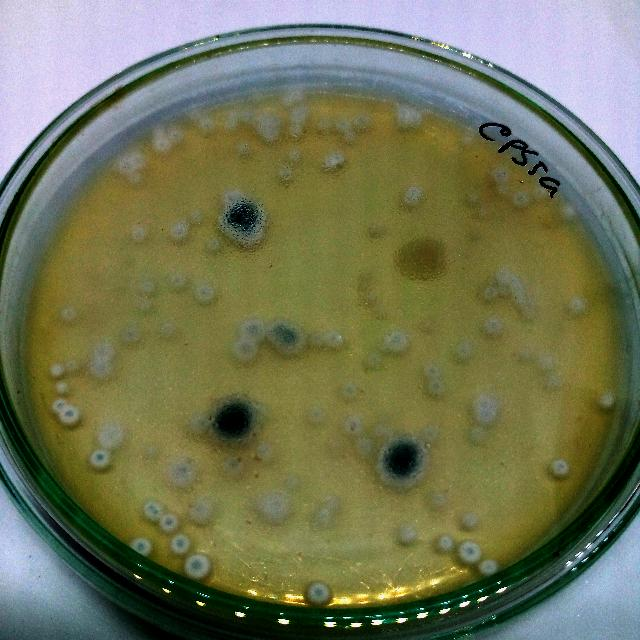colony: (376, 434, 434, 491), (395, 232, 453, 282), (218, 198, 270, 248), (210, 394, 256, 446), (256, 485, 290, 523), (93, 419, 125, 453), (164, 456, 198, 488), (275, 324, 307, 358), (186, 494, 217, 526), (184, 550, 213, 584), (391, 104, 423, 134), (264, 318, 292, 347), (471, 393, 502, 419), (382, 326, 410, 354), (306, 579, 332, 609), (231, 339, 261, 365), (166, 532, 194, 558), (128, 535, 156, 561), (190, 282, 218, 308), (218, 451, 246, 477), (255, 438, 281, 466), (392, 520, 418, 546), (301, 402, 329, 426), (166, 219, 190, 247), (354, 434, 380, 458), (242, 318, 266, 344), (548, 457, 572, 483), (217, 183, 245, 204), (58, 404, 82, 428), (402, 184, 426, 208), (554, 200, 578, 224), (458, 539, 482, 563), (89, 358, 115, 380), (134, 296, 158, 318), (324, 329, 348, 351), (189, 408, 211, 432), (128, 224, 152, 246), (288, 104, 312, 126), (458, 510, 482, 532), (253, 112, 279, 132), (464, 424, 490, 444), (424, 488, 450, 508), (340, 381, 364, 402), (366, 220, 388, 242), (596, 388, 618, 410), (351, 111, 374, 132), (451, 338, 474, 359), (88, 448, 112, 468), (136, 276, 160, 296), (315, 506, 335, 530), (422, 360, 446, 380), (286, 125, 308, 146), (167, 271, 190, 291), (155, 320, 177, 340), (342, 415, 364, 435), (186, 203, 208, 223), (276, 164, 296, 186), (115, 152, 135, 174), (510, 188, 532, 208), (494, 266, 516, 286), (434, 534, 456, 554), (125, 150, 146, 170), (541, 369, 563, 388), (143, 501, 163, 521), (284, 473, 304, 493), (202, 234, 222, 254), (315, 116, 335, 136), (478, 316, 498, 336), (428, 377, 448, 397), (535, 350, 555, 370), (478, 557, 498, 577), (156, 513, 178, 531), (92, 338, 114, 356), (59, 306, 81, 324), (232, 138, 254, 156), (260, 126, 282, 144), (566, 296, 588, 314), (122, 326, 142, 344), (364, 352, 384, 370), (186, 106, 206, 124), (518, 343, 538, 361), (49, 397, 69, 415), (490, 165, 510, 182), (283, 146, 301, 164), (239, 108, 259, 124), (534, 184, 554, 200), (462, 190, 482, 206), (475, 203, 491, 223), (310, 329, 326, 348), (333, 116, 352, 132), (479, 284, 498, 300), (64, 357, 80, 375), (126, 171, 144, 187), (154, 138, 172, 154), (341, 130, 361, 144), (49, 363, 65, 379), (198, 116, 214, 132), (521, 306, 537, 322), (332, 151, 348, 167), (221, 116, 239, 130), (277, 94, 295, 108), (511, 294, 529, 308), (322, 154, 336, 170), (288, 90, 304, 104), (508, 283, 524, 297), (166, 130, 184, 142), (56, 382, 68, 396)
